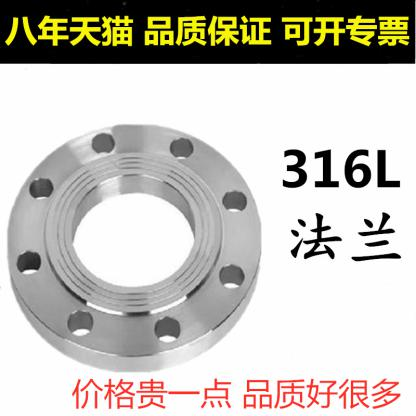FOD: (1, 120, 267, 378)
